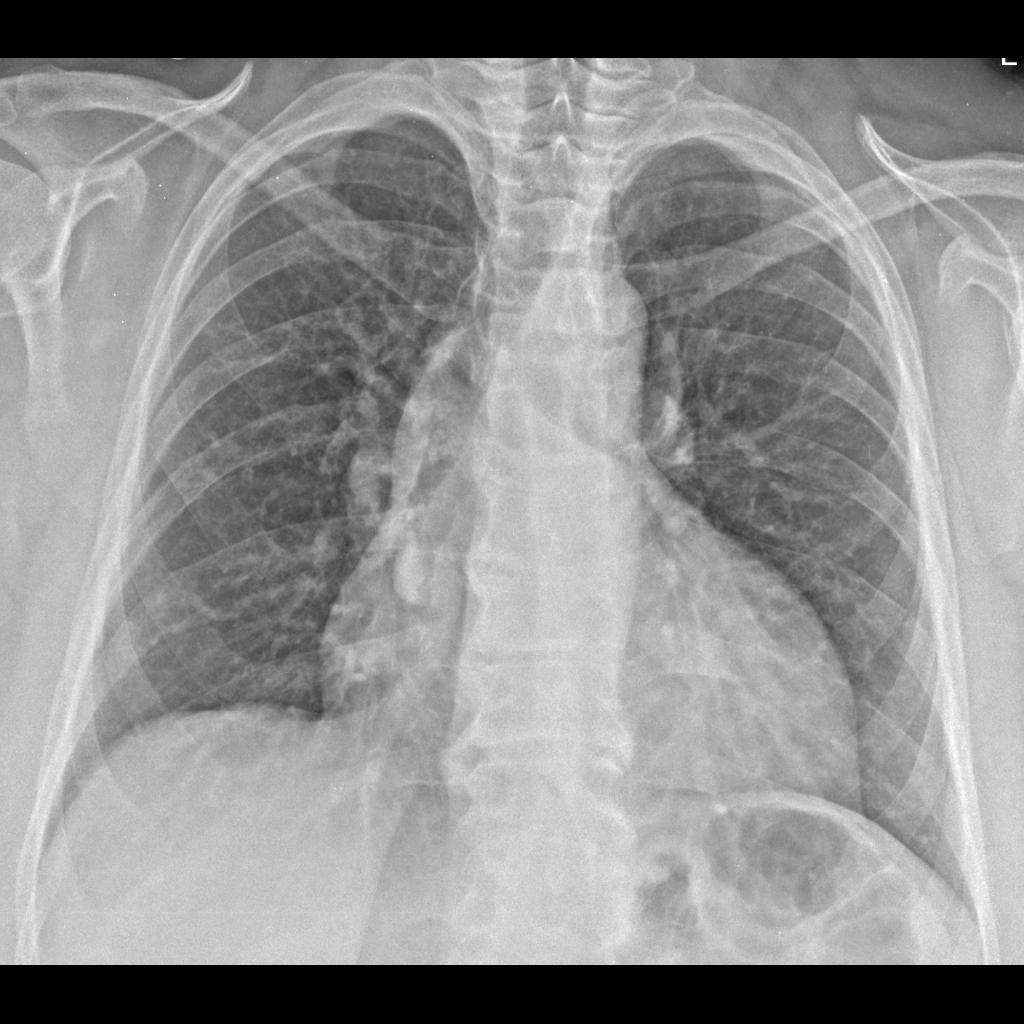Nodule: (384, 535, 466, 621)
